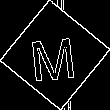M_N: (29, 27, 81, 83)
